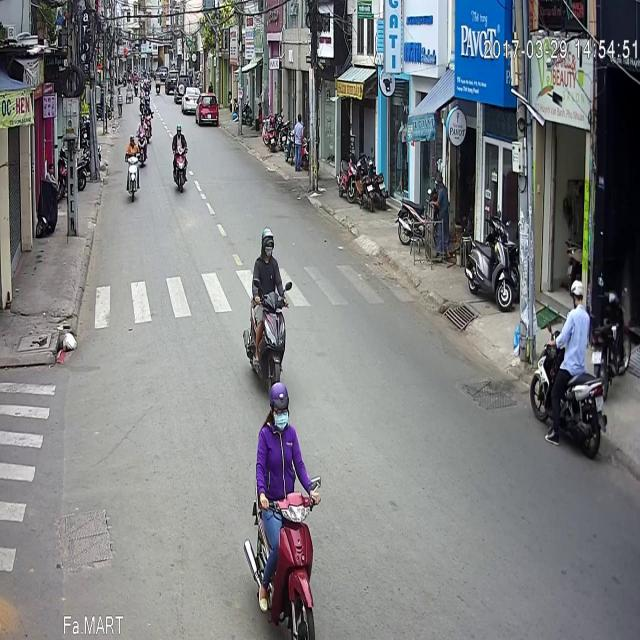car: (196, 32, 218, 69)
motorcycle: (242, 321, 320, 609), (529, 222, 608, 400), (242, 167, 292, 340), (170, 67, 189, 135), (124, 74, 140, 143), (136, 60, 148, 106)
